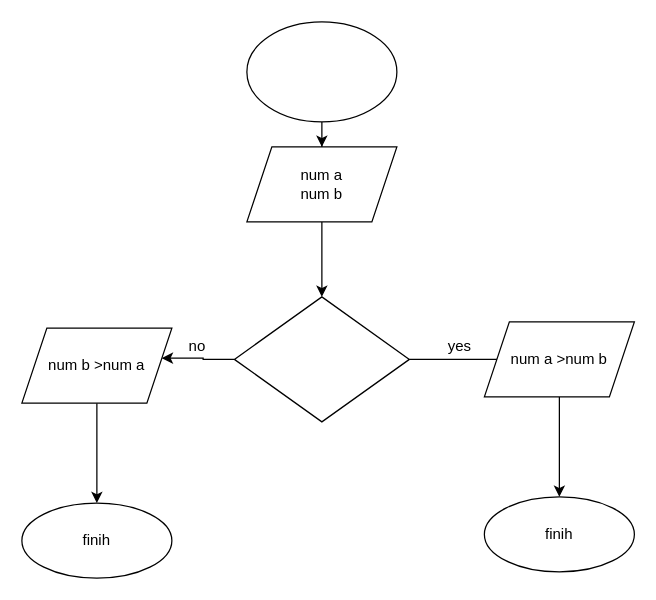
This 656x600 diagram has some shape labels left out. Each missing label, with the centre of its shape:
"num a>num b" belongs at point 321,359.
"start" belongs at point 321,71.
